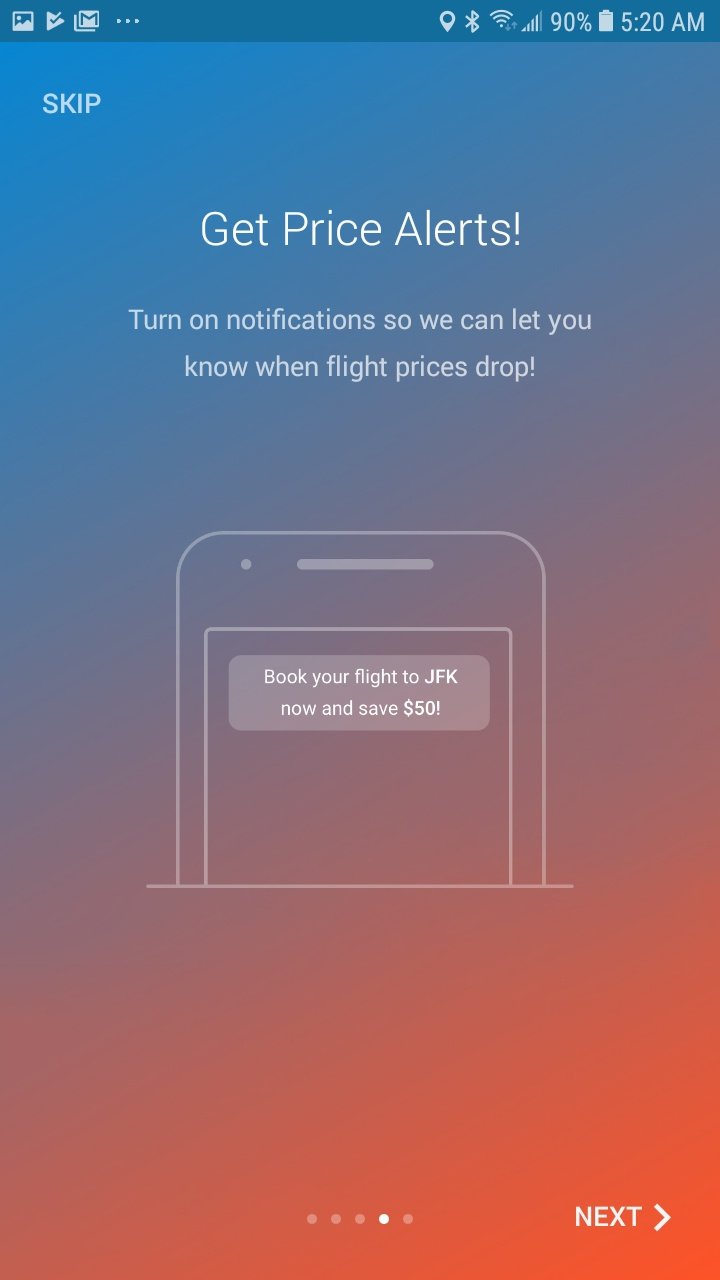Icon: (653, 1203, 672, 1232)
Image: (146, 531, 575, 889)
PageIndicator: (306, 1213, 415, 1225)
Text: (128, 308, 592, 383), (202, 210, 520, 248), (575, 1205, 643, 1227), (43, 93, 102, 115)
UpperTaskBar: (1, 1, 720, 43)
